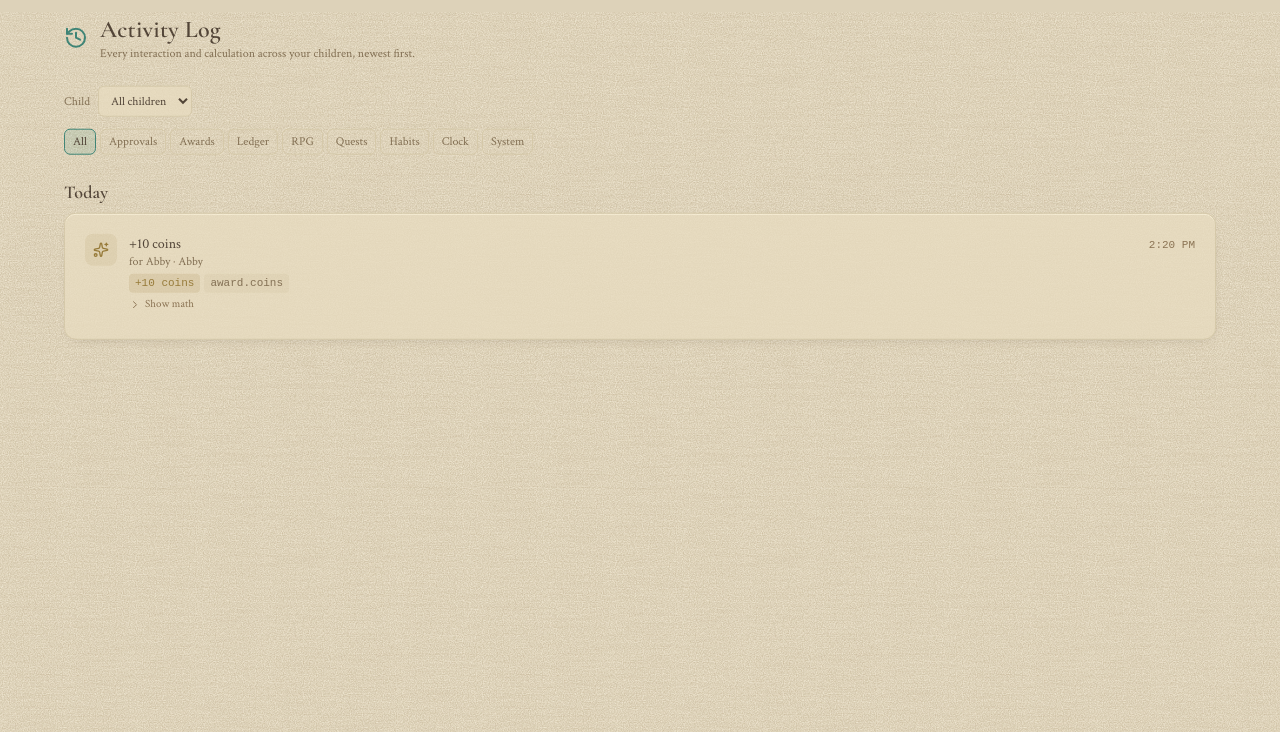
it: ActivityPage › reveals the math breakdown on click
The image size is (1280, 732).
Step 1. Click the button "Show math" → (162, 304), box x1=129 y1=297 x2=194 y2=312
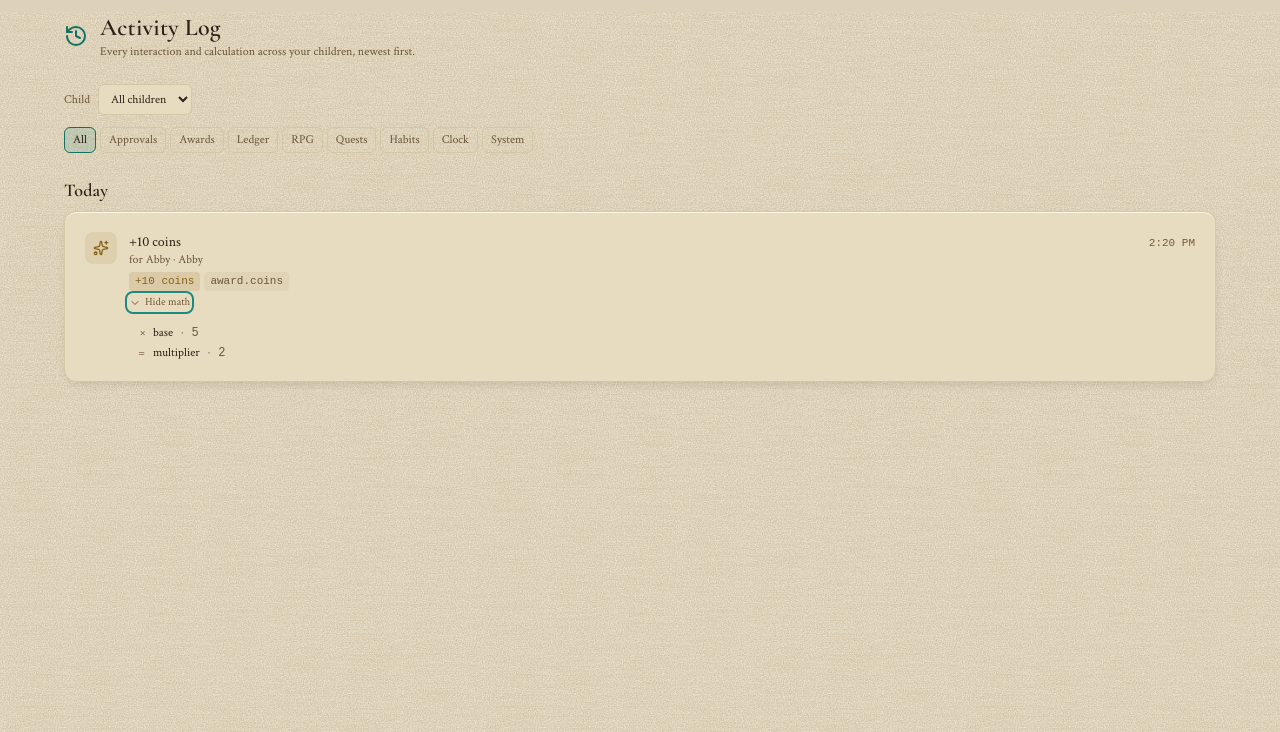
Now the button named "show math" is expanded, box x1=129 y1=295 x2=190 y2=310
Now the text "base" is shown, box x1=153 y1=324 x2=173 y2=340
Now the text "multiplier" is shown, box x1=153 y1=344 x2=200 y2=360
